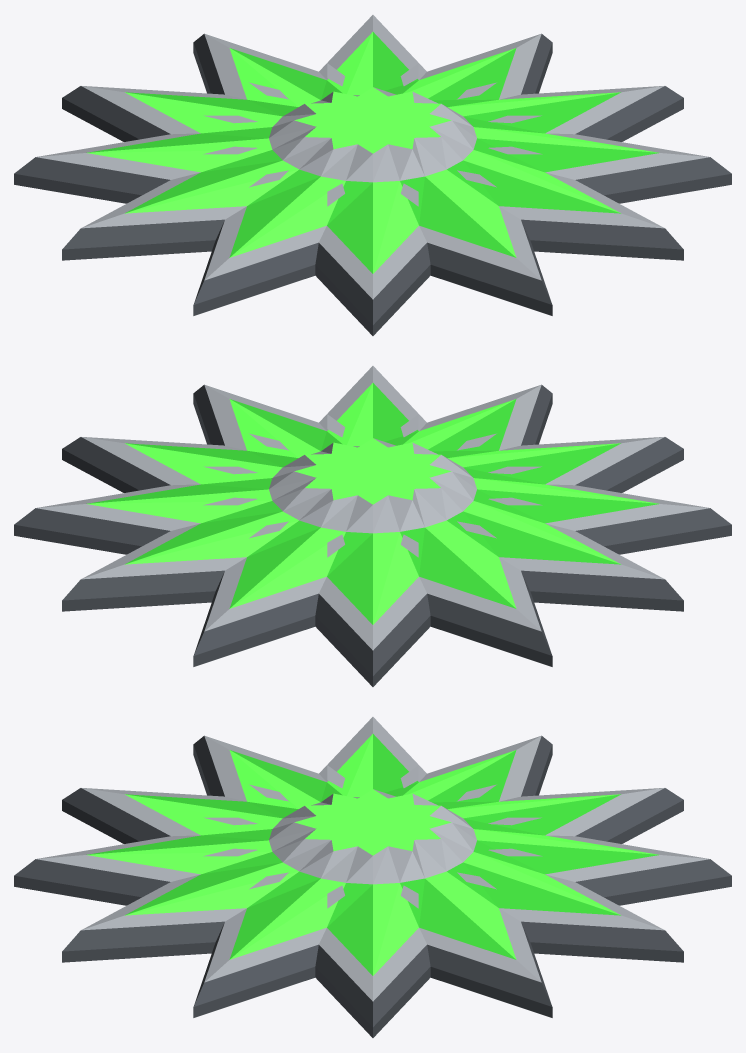
Rendered from ScreenSelectorBPlayable.glb.
The picture shows the model from 3 angles, top to bottom: view 1: azimuth 30°, elevation 25°; view 2: azimuth 150°, elevation 25°; view 3: azimuth 270°, elevation 25°; orthographic projection.
Visible parts, largest first — view 1: ScreenSelectorBPlayable; view 2: ScreenSelectorBPlayable; view 3: ScreenSelectorBPlayable.
Boxes of the visible parts, <box> form: ScreenSelectorBPlayable: <box>14,15,731,335</box>; ScreenSelectorBPlayable: <box>14,366,731,686</box>; ScreenSelectorBPlayable: <box>14,717,731,1037</box>.
Bounding box in the file's own units: 0.94 × 0.093 × 0.94.
